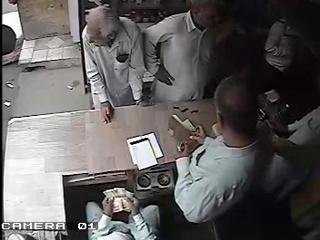Normal: (169, 75, 274, 232), (143, 0, 231, 104), (81, 0, 148, 125), (86, 188, 160, 240)
